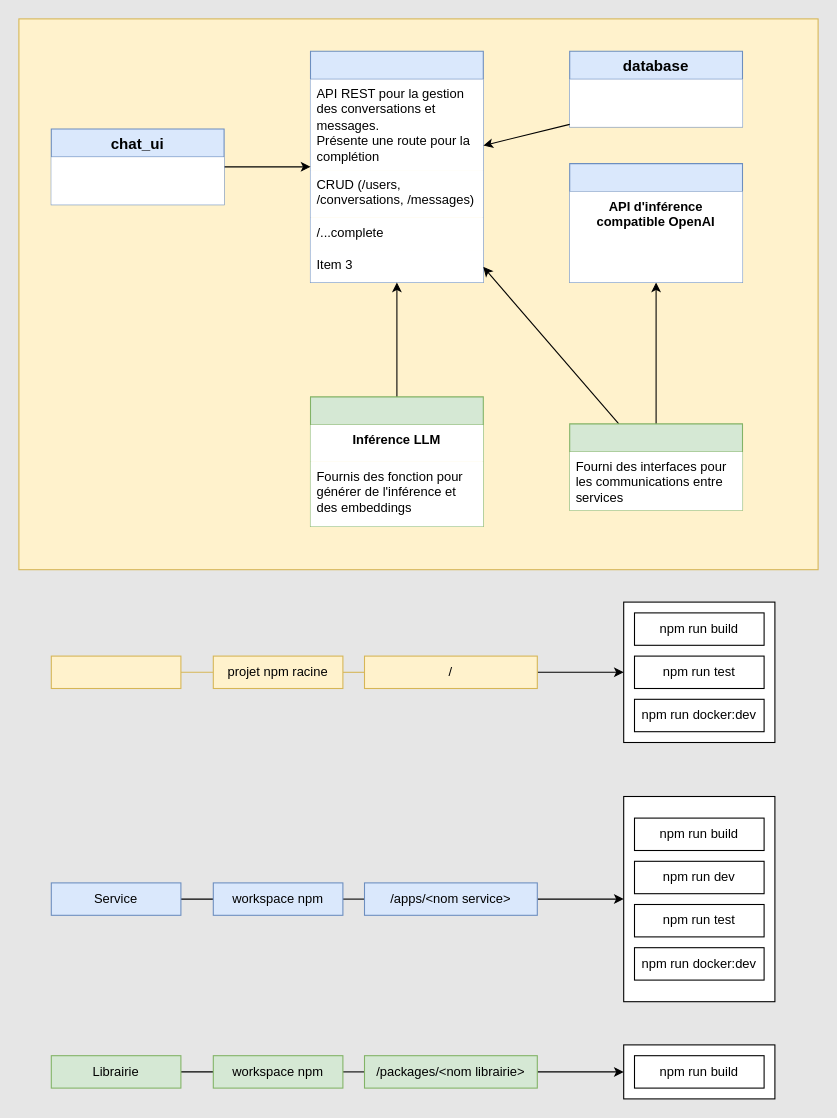
Image size: 837x1118. Some labels were removed from this diagram. Here are the shapes that lost their labels. From the top down, the box of each, then its label:
(569, 79, 742, 126): PostgreSQL
(51, 157, 224, 204): Interface graphique en Svelte
(309, 50, 483, 282): chat_service
(569, 163, 742, 282): llm-gateway_service
(309, 396, 483, 526): llm_library
(569, 423, 742, 510): service_library
(50, 655, 181, 688): repo
